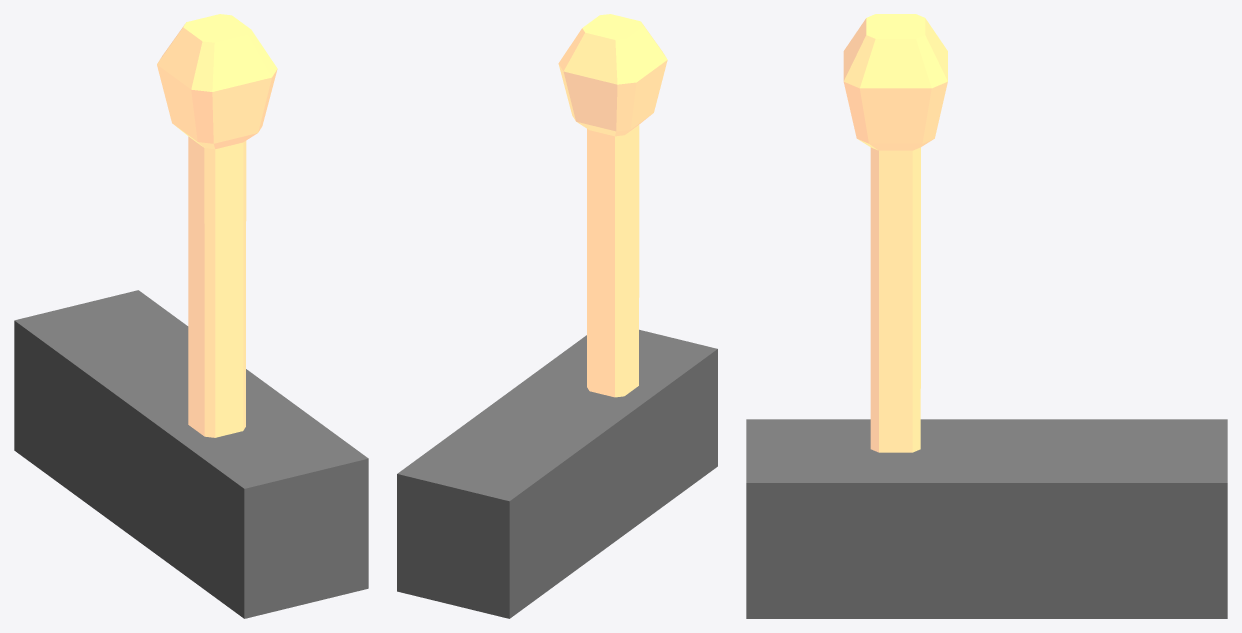
The model's file is lever.glb.
3 views of the same model, side by side, from view 1: azimuth 30°, elevation 25°; view 2: azimuth 150°, elevation 25°; view 3: azimuth 270°, elevation 25° (orthographic). The views are drawn at different scales.
Visible parts, largest first — view 1: Cube.001, Cube.004; view 2: Cube.001, Cube.004; view 3: Cube.001, Cube.004.
Part boxes in pixels (x1=…): Cube.001: x1=14, y1=290, x2=368, y2=618; Cube.004: x1=157, y1=14, x2=277, y2=437; Cube.001: x1=397, y1=329, x2=717, y2=618; Cube.004: x1=558, y1=14, x2=667, y2=397; Cube.001: x1=746, y1=419, x2=1227, y2=618; Cube.004: x1=843, y1=14, x2=947, y2=452.
Size of the model in its own units: 0.4773 by 1.94 by 1.53.
